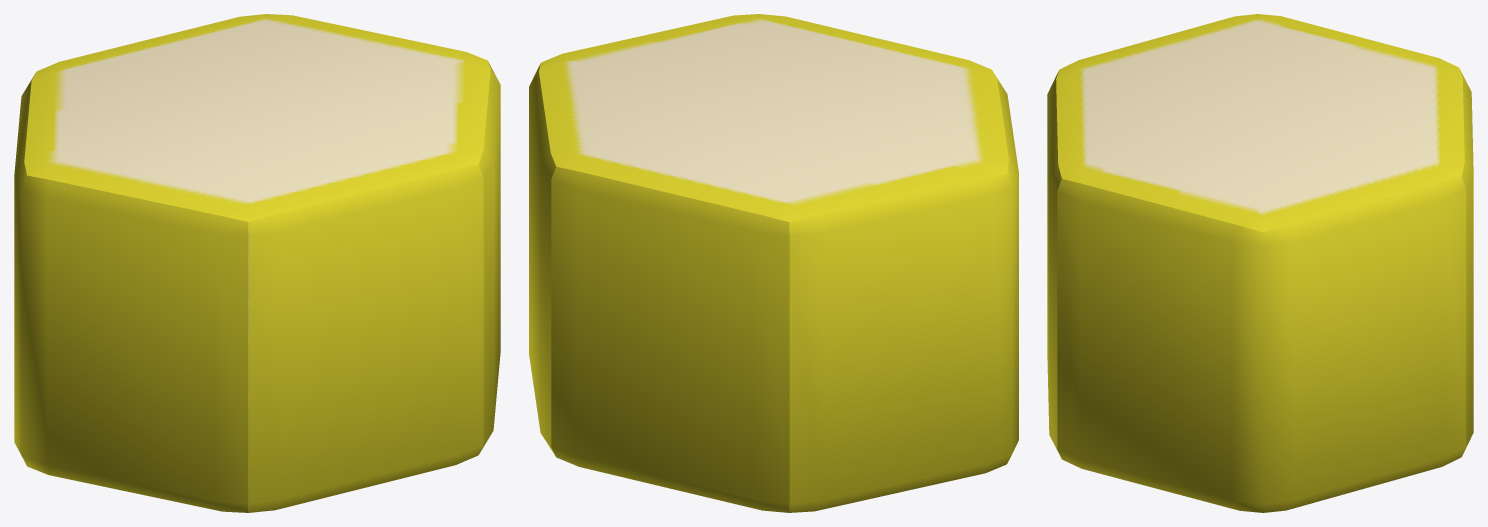
File: Shelf Item (2).fbx
The picture shows the model from 3 angles, left to right: view 1: azimuth 30°, elevation 25°; view 2: azimuth 150°, elevation 25°; view 3: azimuth 270°, elevation 25°; orthographic projection. The views are drawn at different scales.
Visible parts, largest first — view 1: Object120; view 2: Object120; view 3: Object120.
Boxes of the visible parts, box(x1,y1,x2,y2) form: Object120: box(14, 14, 500, 512); Object120: box(529, 14, 1018, 512); Object120: box(1047, 14, 1473, 512).
Bounding box in the file's own units: 10.52 × 6.46 × 8.49.
